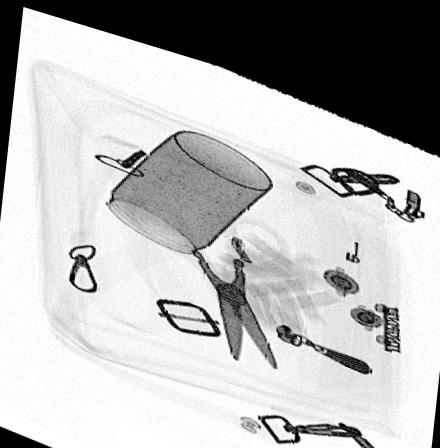Scissors: (120, 184, 298, 356)
